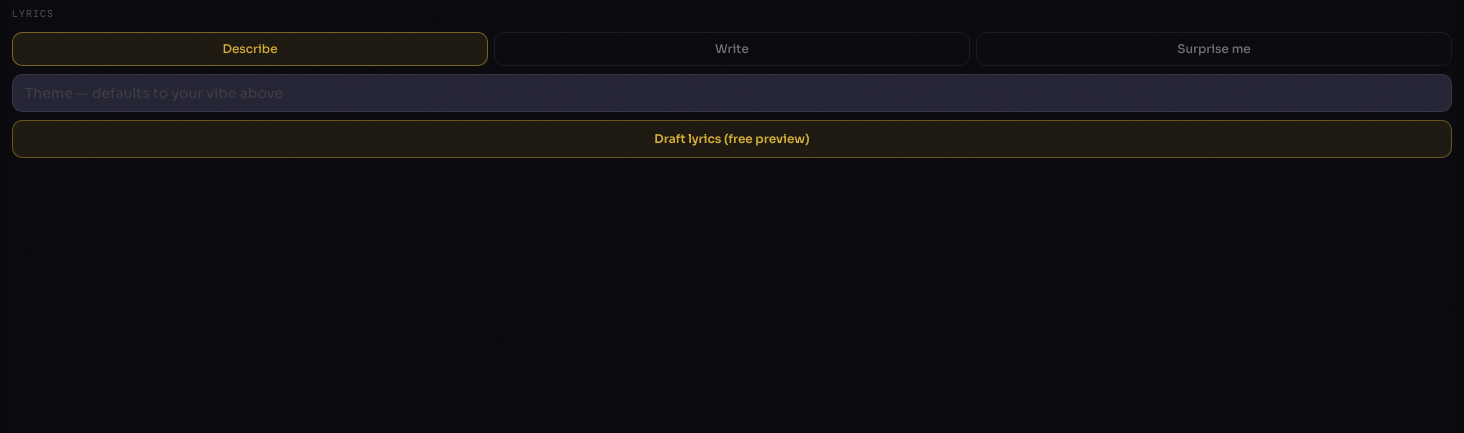
Test case: LyricsStage › populates the editor on successful draft
This screenshot has width=1464, height=433.
Click the button "Draft lyrics (free preview)": (732, 139) left=12, top=120, right=1452, bottom=158
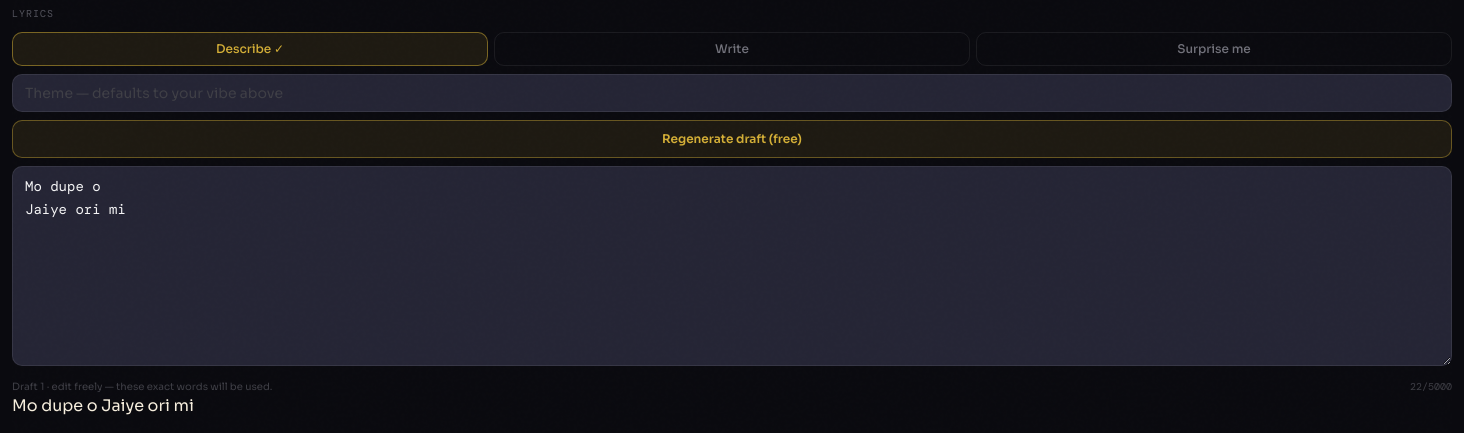
Expected: the text with test id "lyrics-value" shows "Mo dupe o", left=12, top=395, right=194, bottom=416
